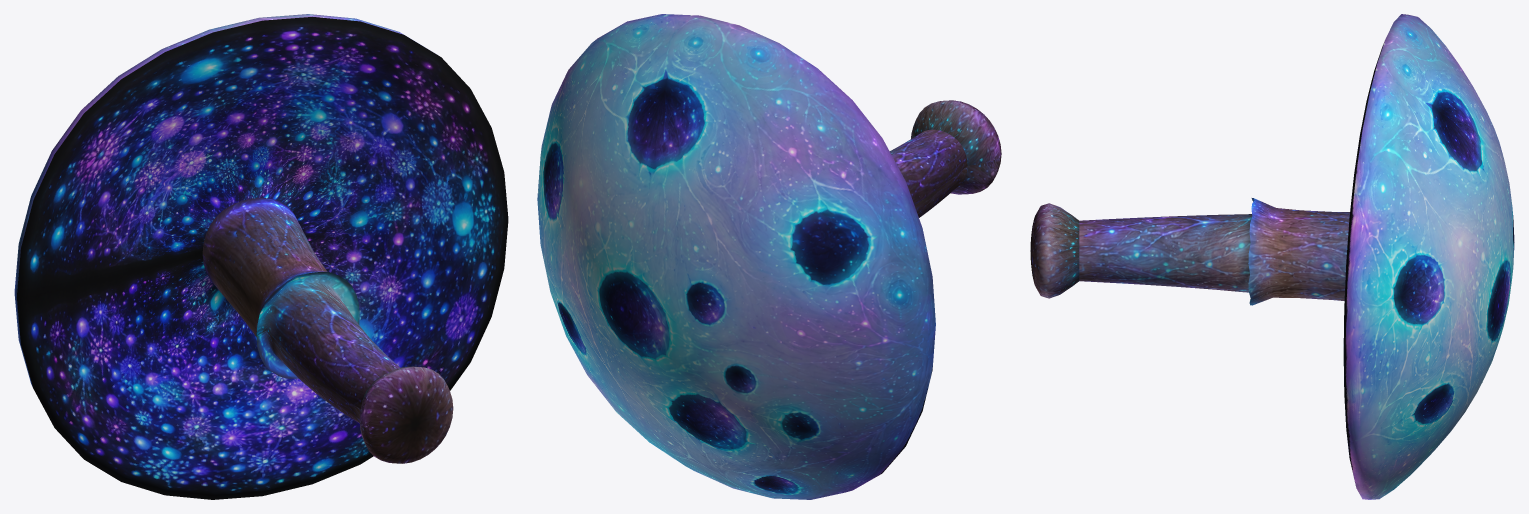
The model's file is mushroomTree.fbx.
3 views of the same model, side by side, from view 1: azimuth 30°, elevation 25°; view 2: azimuth 150°, elevation 25°; view 3: azimuth 270°, elevation 25° (orthographic). The views are drawn at different scales.
Visible parts, largest first — view 1: Cube; view 2: Cube; view 3: Cube.
Boxes of the visible parts, x1,y1,x2,y2 form: Cube: (14, 14, 508, 499); Cube: (537, 14, 1001, 499); Cube: (1030, 14, 1514, 499).
Bounding box in the file's own units: 1455 × 1475 × 1484.
1 material, 1 textured.
